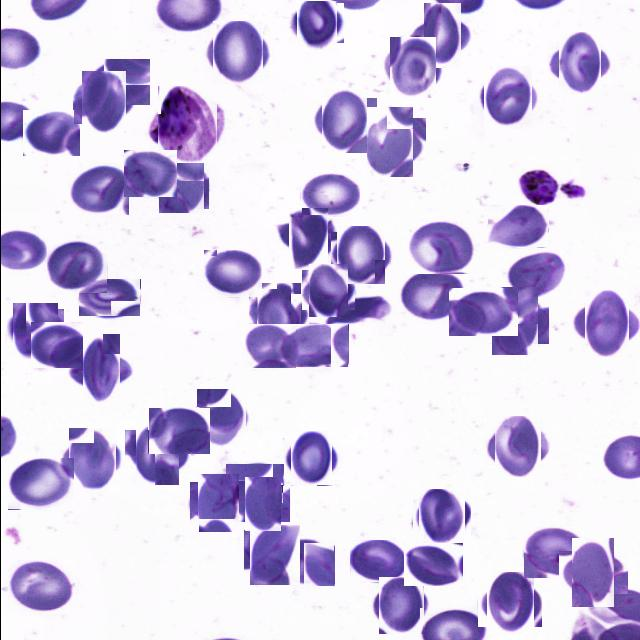red blood cell: (7, 560, 74, 614), (7, 458, 74, 510), (408, 222, 474, 274), (446, 288, 516, 336), (361, 112, 418, 170), (208, 24, 265, 82), (46, 240, 107, 294), (523, 526, 586, 578), (504, 249, 566, 301), (398, 269, 462, 319), (486, 292, 542, 349), (479, 70, 535, 126), (64, 432, 120, 488), (578, 296, 634, 352), (564, 544, 620, 600), (481, 576, 537, 631), (73, 342, 128, 398), (69, 163, 128, 215), (279, 324, 348, 368), (194, 390, 248, 446), (130, 424, 184, 480), (274, 537, 334, 587), (490, 419, 544, 474), (316, 94, 371, 148), (332, 228, 387, 282), (246, 528, 301, 582), (76, 74, 130, 128), (385, 40, 439, 94), (88, 59, 150, 106), (146, 408, 208, 454), (203, 250, 262, 298), (552, 36, 604, 90), (300, 172, 360, 218), (416, 9, 468, 61), (252, 286, 304, 338), (414, 492, 466, 544), (487, 205, 548, 248), (21, 110, 78, 156), (9, 306, 60, 357), (374, 580, 426, 630), (403, 543, 462, 586), (156, 161, 206, 211), (282, 214, 332, 264), (193, 478, 243, 528), (123, 150, 176, 197), (30, 322, 84, 368), (349, 540, 407, 582), (78, 279, 140, 317), (244, 324, 296, 369), (286, 434, 334, 482), (225, 464, 282, 504), (292, 0, 340, 47), (304, 266, 350, 314), (238, 481, 284, 527)
schizont: (152, 90, 220, 158)
